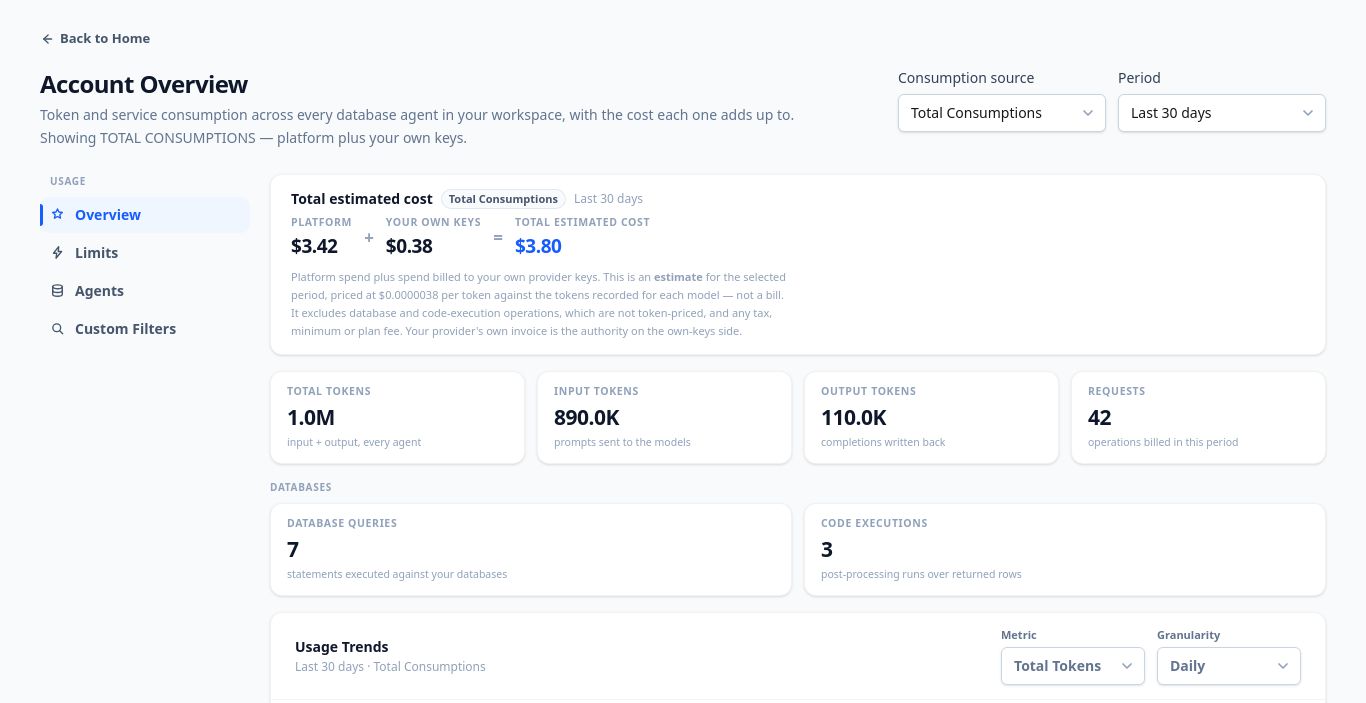
it: Custom Filters › offers exactly the three facets, and no service facet at all
This screenshot has width=1366, height=703.
Click the button "Custom Filters".
click(145, 328)  # box [40,310,250,346]
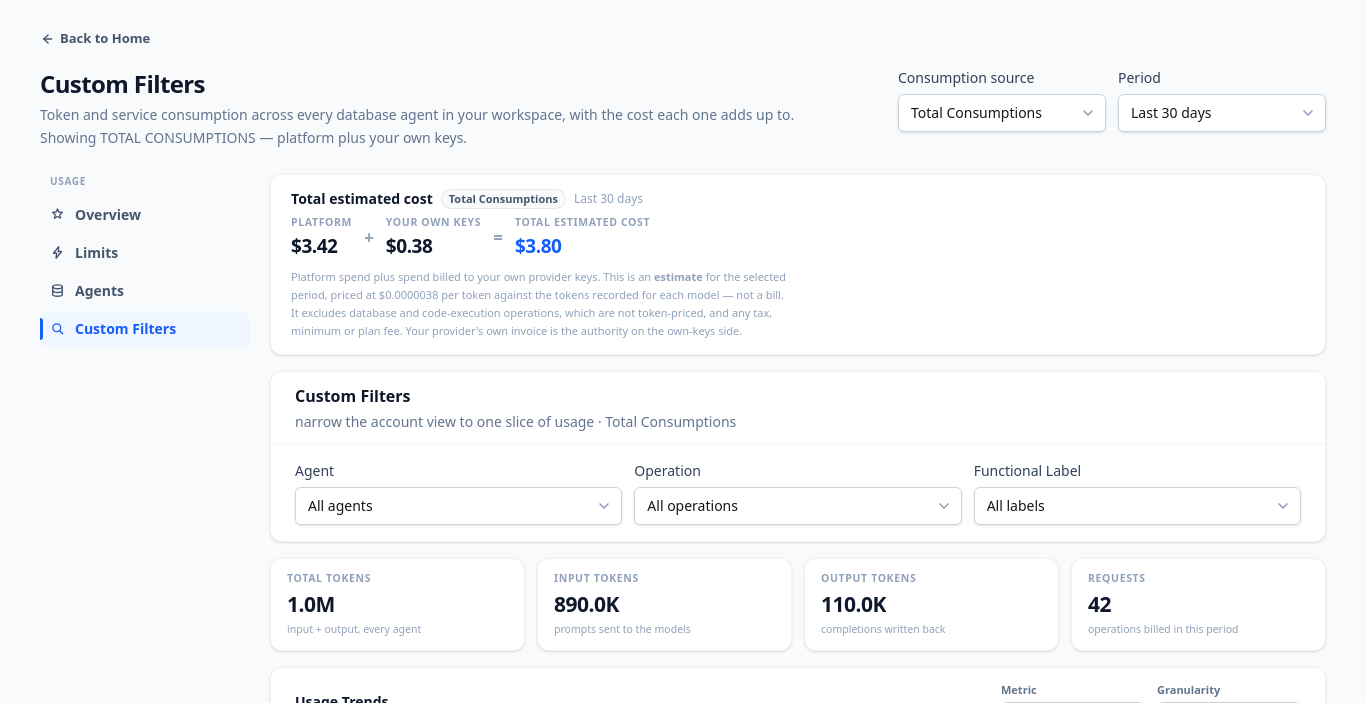
Now the dropdown named "Filter by agent" is shown, box [295,487,622,525]
Now the dropdown named "Filter by operation" is shown, box [634,487,962,525]
Now the dropdown named "Filter by functional label" is shown, box [974,487,1301,525]
